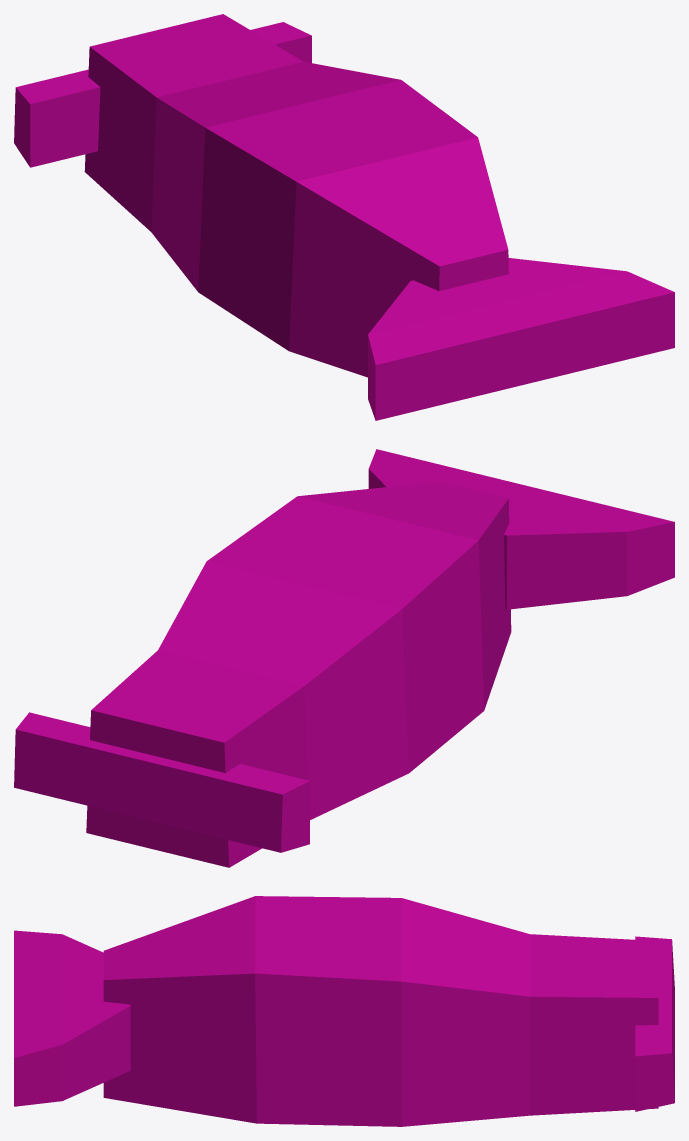
File: SM_Veh_OpenWheeler_01_Collision.fbx
The picture shows the model from 3 angles, top to bottom: view 1: azimuth 30°, elevation 25°; view 2: azimuth 150°, elevation 25°; view 3: azimuth 270°, elevation 25°; orthographic projection. The views are drawn at different scales.
Visible parts, largest first — view 1: SM_Veh_OpenWheeler_01_Collision; view 2: SM_Veh_OpenWheeler_01_Collision; view 3: SM_Veh_OpenWheeler_01_Collision.
Boxes of the visible parts, x1,y1,x2,y2 form: SM_Veh_OpenWheeler_01_Collision: [14, 14, 674, 420]; SM_Veh_OpenWheeler_01_Collision: [14, 449, 674, 867]; SM_Veh_OpenWheeler_01_Collision: [14, 896, 674, 1126].
Size of the model in its own units: 212 by 114 by 465.
